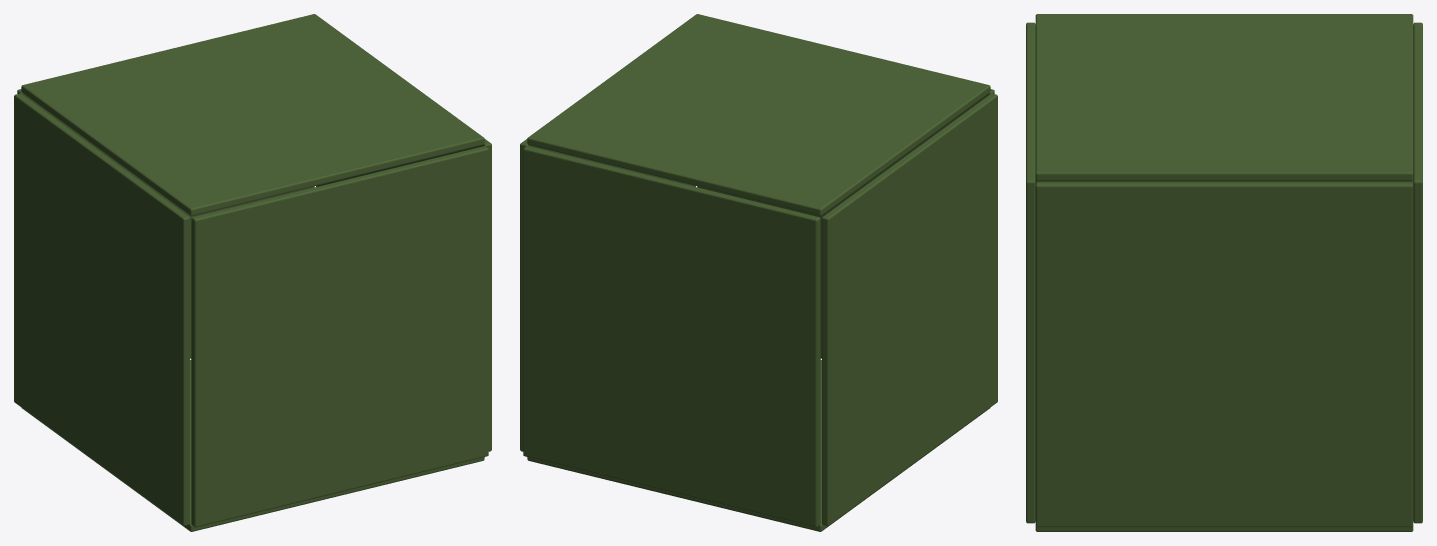
The model's file is dark_green.gltf.
3 views of the same model, side by side, from view 1: azimuth 30°, elevation 25°; view 2: azimuth 150°, elevation 25°; view 3: azimuth 270°, elevation 25° (orthographic). The views are drawn at different scales.
Visible parts, largest first — view 1: Cube_Cube.004; view 2: Cube_Cube.004; view 3: Cube_Cube.004.
Boxes of the visible parts, x1=… form: Cube_Cube.004: x1=14, y1=14, x2=491, y2=531; Cube_Cube.004: x1=520, y1=14, x2=997, y2=531; Cube_Cube.004: x1=1026, y1=14, x2=1422, y2=531.
Size of the model in its own units: 2.1 by 2.1 by 2.1.
